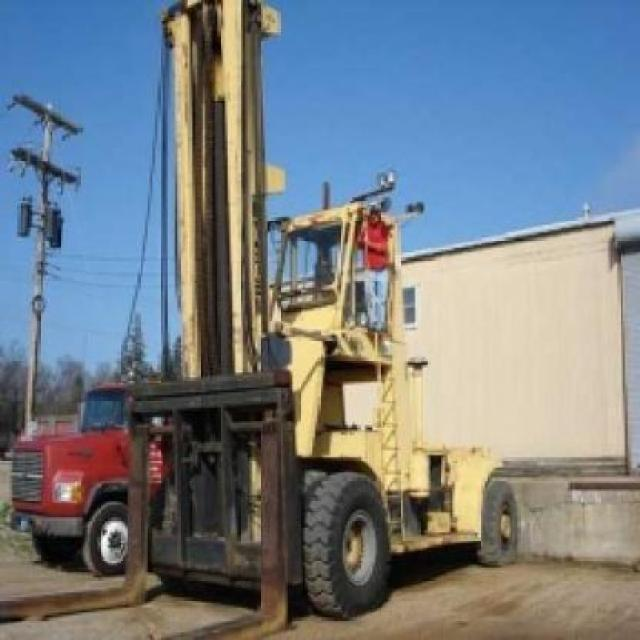forklift: (119, 8, 530, 616)
person: (358, 205, 391, 336)
